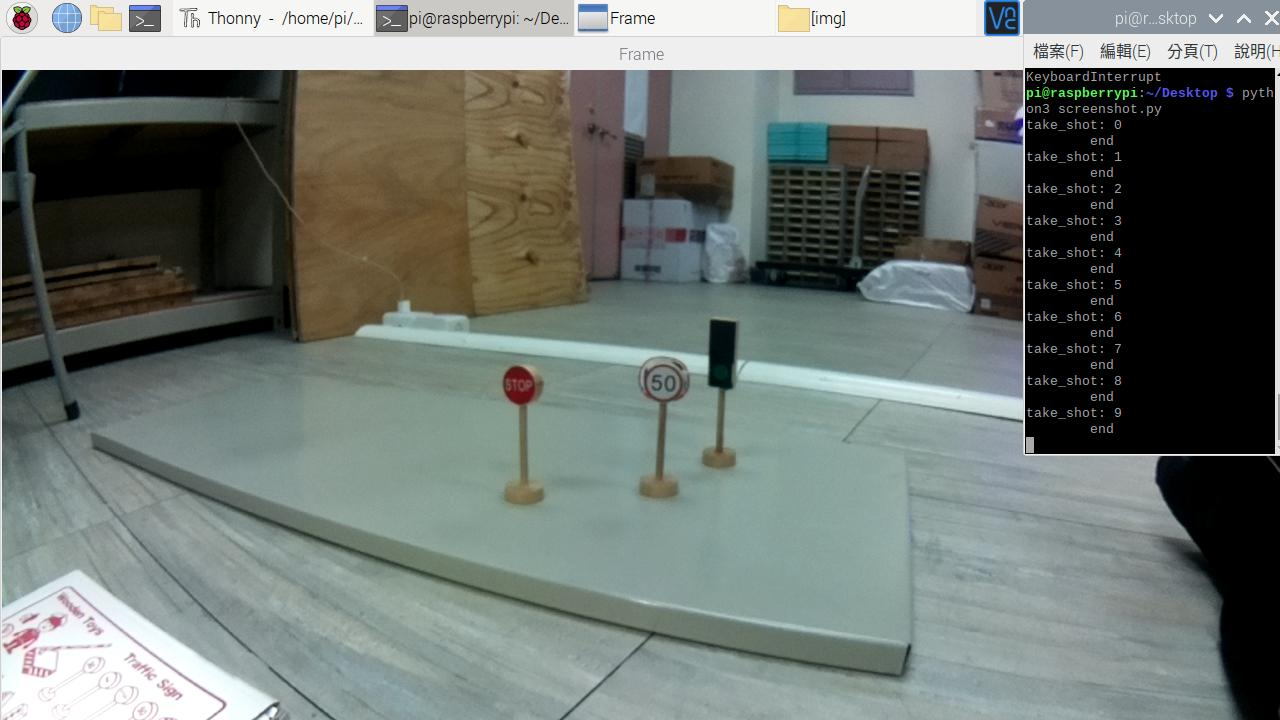Green: (707, 313, 738, 395)
Speed50: (640, 359, 687, 400)
Stop: (501, 365, 542, 403)
